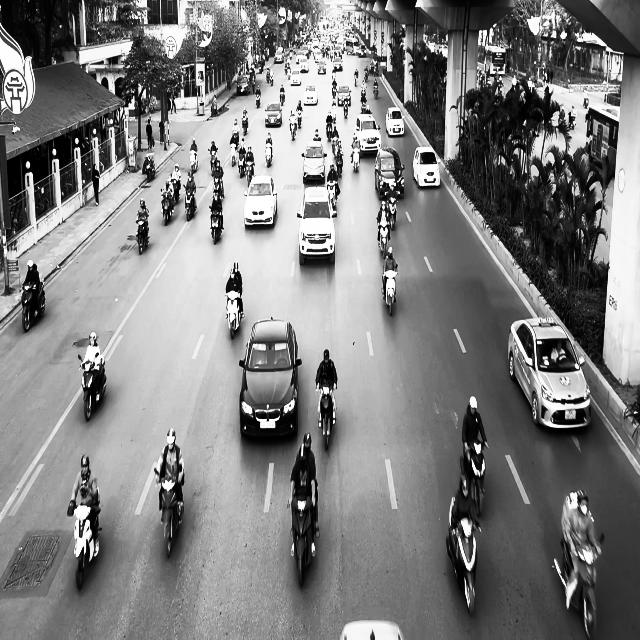bus: (484, 46, 506, 76)
car: (508, 315, 591, 430), (238, 316, 302, 438), (296, 185, 337, 265), (243, 174, 277, 228), (374, 146, 405, 199), (412, 146, 440, 188), (354, 114, 381, 156), (301, 140, 327, 183), (385, 107, 405, 136), (264, 102, 282, 126), (303, 83, 318, 105), (336, 85, 352, 105), (290, 68, 301, 85)
motorbike: (552, 532, 605, 639), (446, 496, 481, 615), (67, 492, 102, 590), (287, 485, 319, 588), (155, 469, 184, 557), (77, 353, 107, 421), (462, 441, 488, 517), (316, 383, 336, 450), (21, 277, 45, 332), (225, 289, 242, 340), (382, 264, 398, 316), (209, 205, 223, 244), (183, 184, 197, 221), (135, 219, 149, 254), (160, 189, 173, 225), (144, 154, 155, 182), (350, 144, 360, 172), (189, 150, 198, 174), (265, 142, 273, 166), (289, 117, 297, 140)
